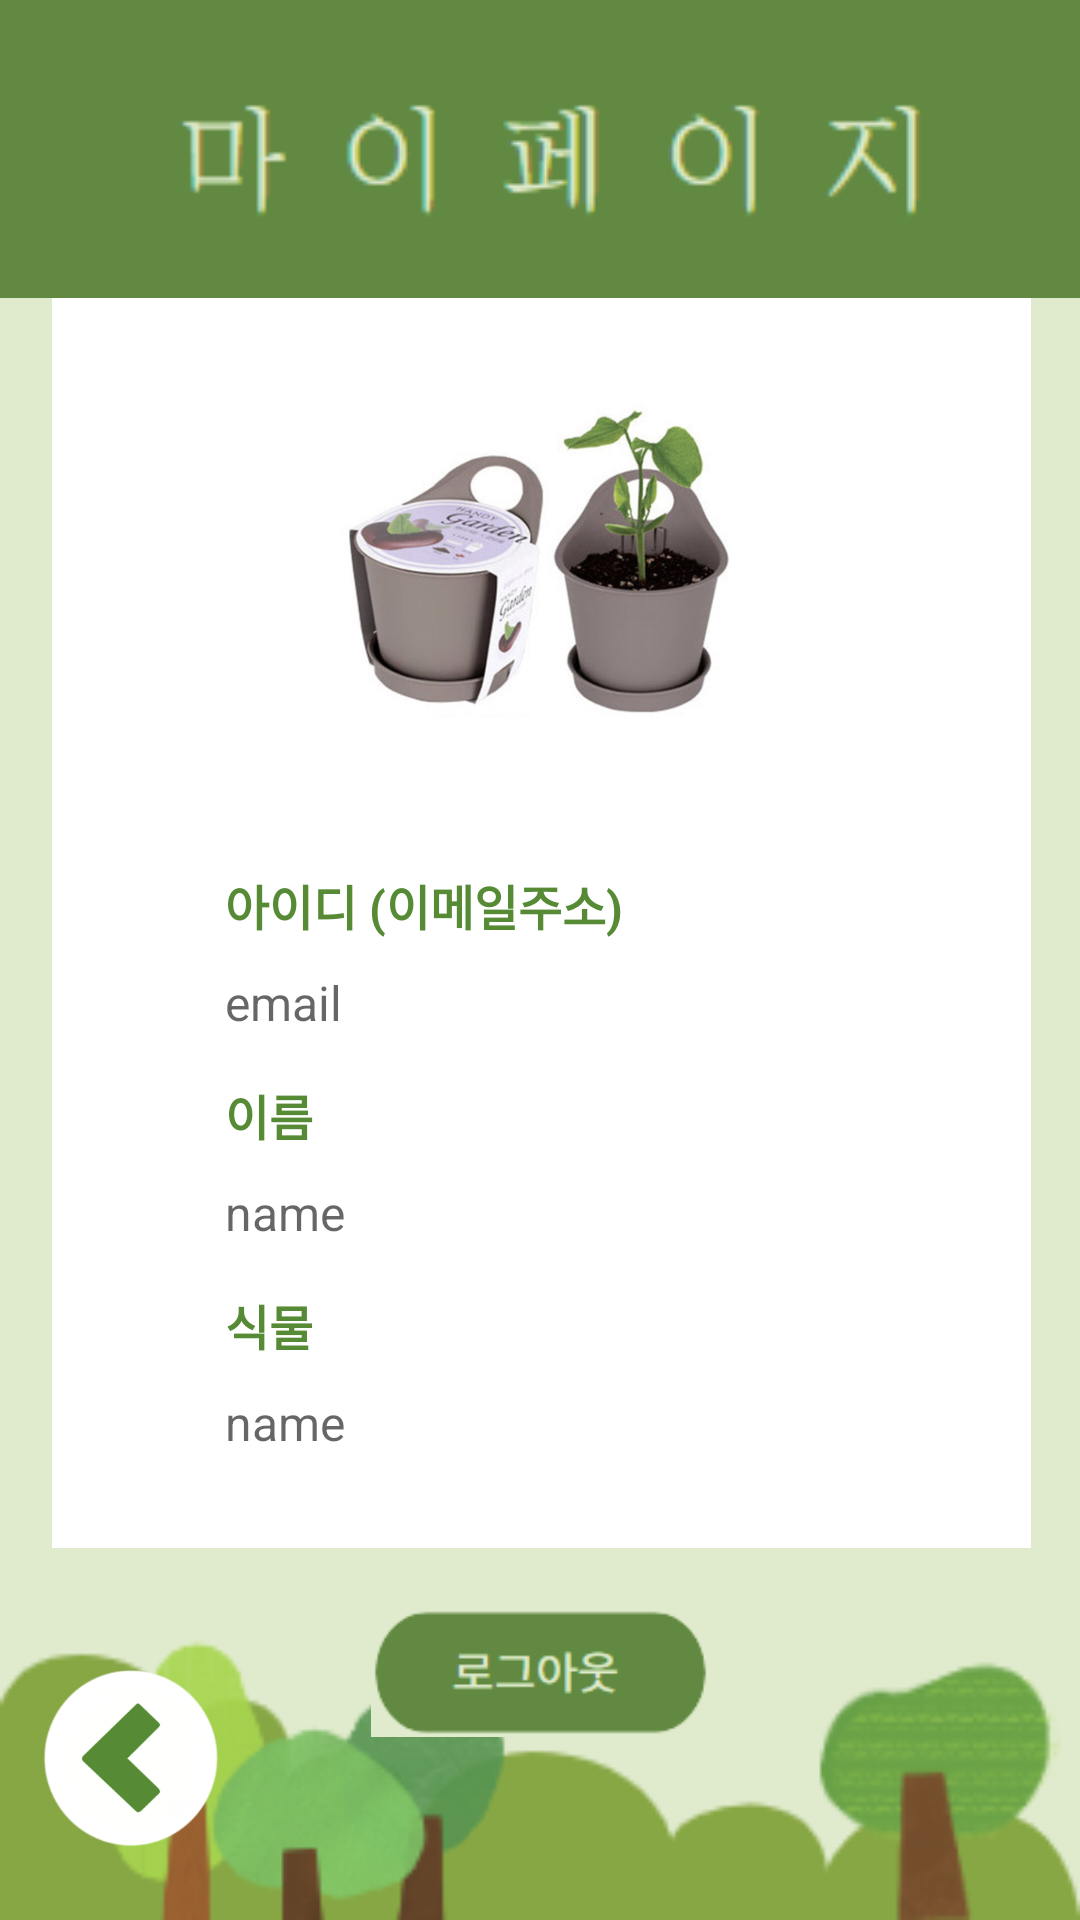

Icons on this 1080×1920 Android screen, each with the point to tap as [x,y]:
back: [131,1756]
